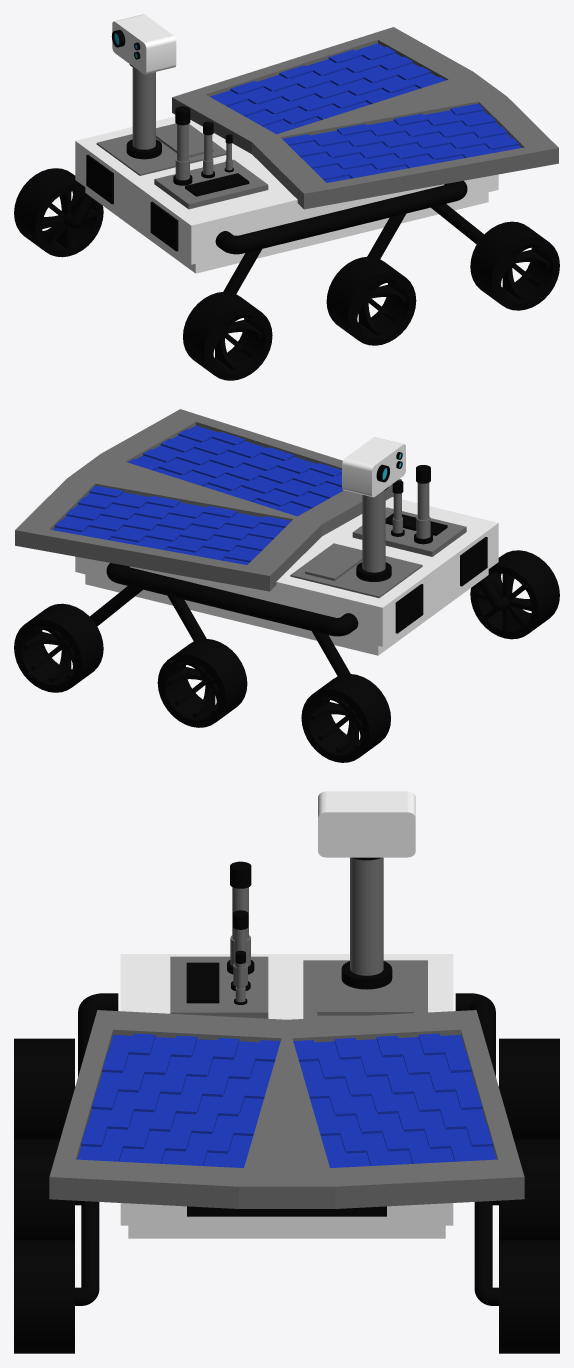
File: Rover (1).fbx
The picture shows the model from 3 angles, top to bottom: view 1: azimuth 30°, elevation 25°; view 2: azimuth 150°, elevation 25°; view 3: azimuth 270°, elevation 25°; orthographic projection. The views are drawn at different scales.
Parts seen in each view (by area): view 1: Antenne; view 2: Antenne; view 3: Antenne.
Part boxes in pixels (left/top/right/bottom): Antenne: left=14, top=14, right=559, bottom=380; Antenne: left=14, top=409, right=559, bottom=762; Antenne: left=14, top=791, right=559, bottom=1353.
Bounding box in the file's own units: 111 × 70.78 × 95.92.
